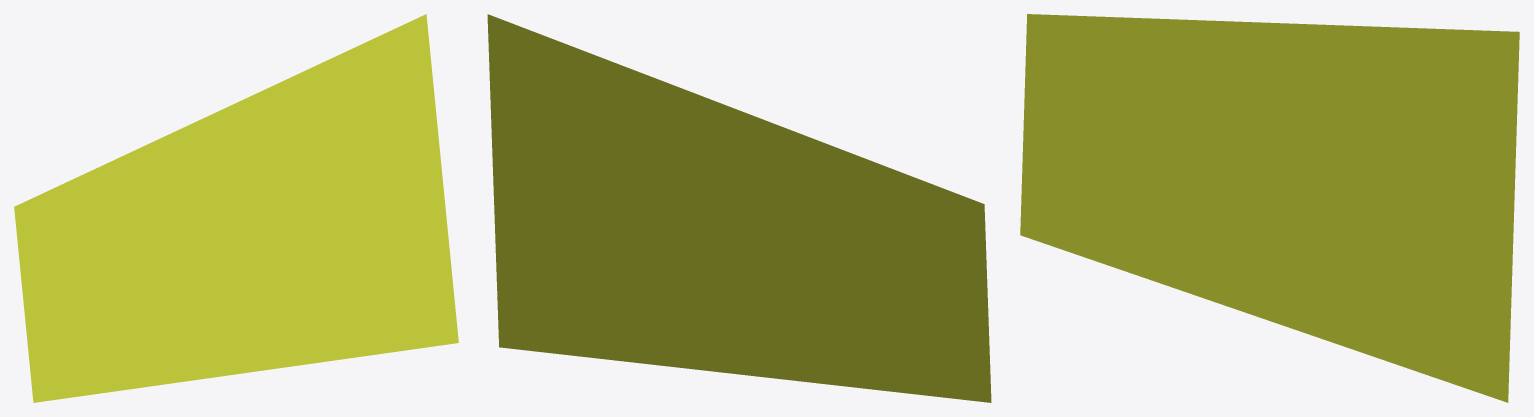
File: b_polySurface667_b_BMW_i8Elite_2017CalliperGloss_Material1_0.glb
3 views of the same model, side by side, from view 1: azimuth 30°, elevation 25°; view 2: azimuth 150°, elevation 25°; view 3: azimuth 330°, elevation 25° (orthographic). The views are drawn at different scales.
Parts seen in each view (by area): view 1: b:polySurface667_b:BMW_i8Elite_2017CalliperGloss_Material1_0; view 2: b:polySurface667_b:BMW_i8Elite_2017CalliperGloss_Material1_0; view 3: b:polySurface667_b:BMW_i8Elite_2017CalliperGloss_Material1_0.
Part boxes in pixels (x1,y1,x2,y2): b:polySurface667_b:BMW_i8Elite_2017CalliperGloss_Material1_0: (14, 14, 458, 402); b:polySurface667_b:BMW_i8Elite_2017CalliperGloss_Material1_0: (487, 14, 991, 402); b:polySurface667_b:BMW_i8Elite_2017CalliperGloss_Material1_0: (1020, 14, 1519, 402).
Size of the model in its own units: 0.0291 by 0.02 by 0.00326.
